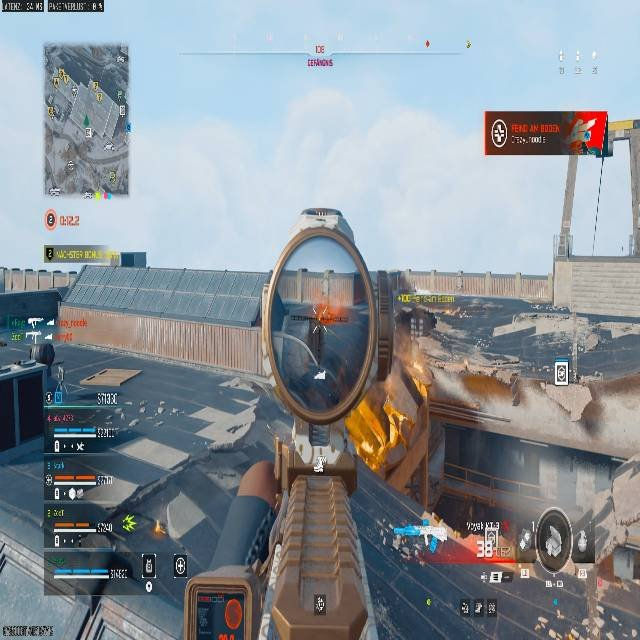player: (531, 612, 576, 639)
